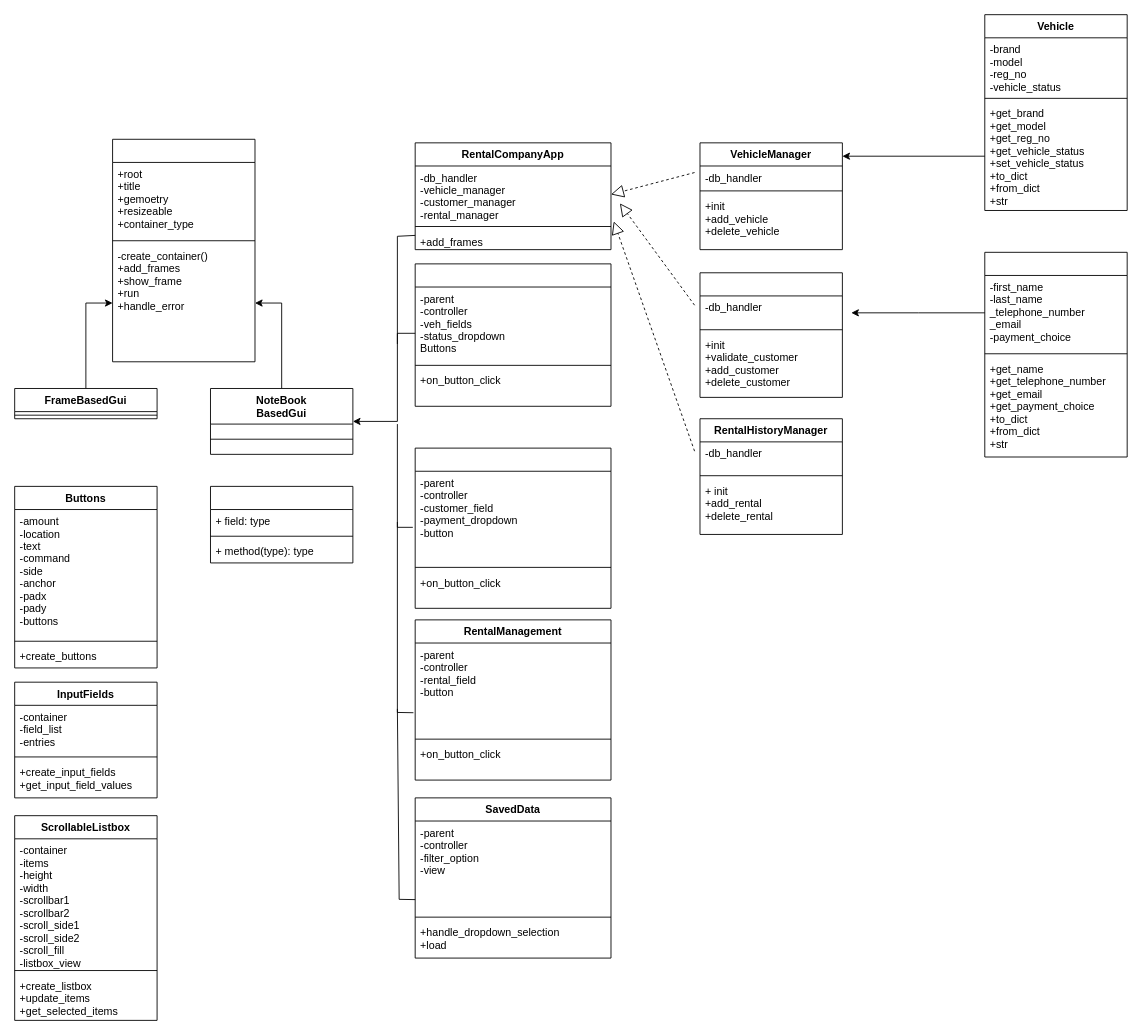
The diagram is 1142 pixels wide and 1035 high, and some of its shapes have lost their labels. The shapes that lost their labels are listed below. From the top down, each one's box as (x1, y1, x2, y2) in pixels, then its label:
(112, 138, 255, 362): BaseGui
(414, 263, 611, 406): VehicleManagement
(699, 272, 842, 397): CustomerManager
(984, 251, 1127, 457): Customer
(210, 485, 353, 563): InnerNotebookTab
(414, 447, 611, 608): CustomerManagement
